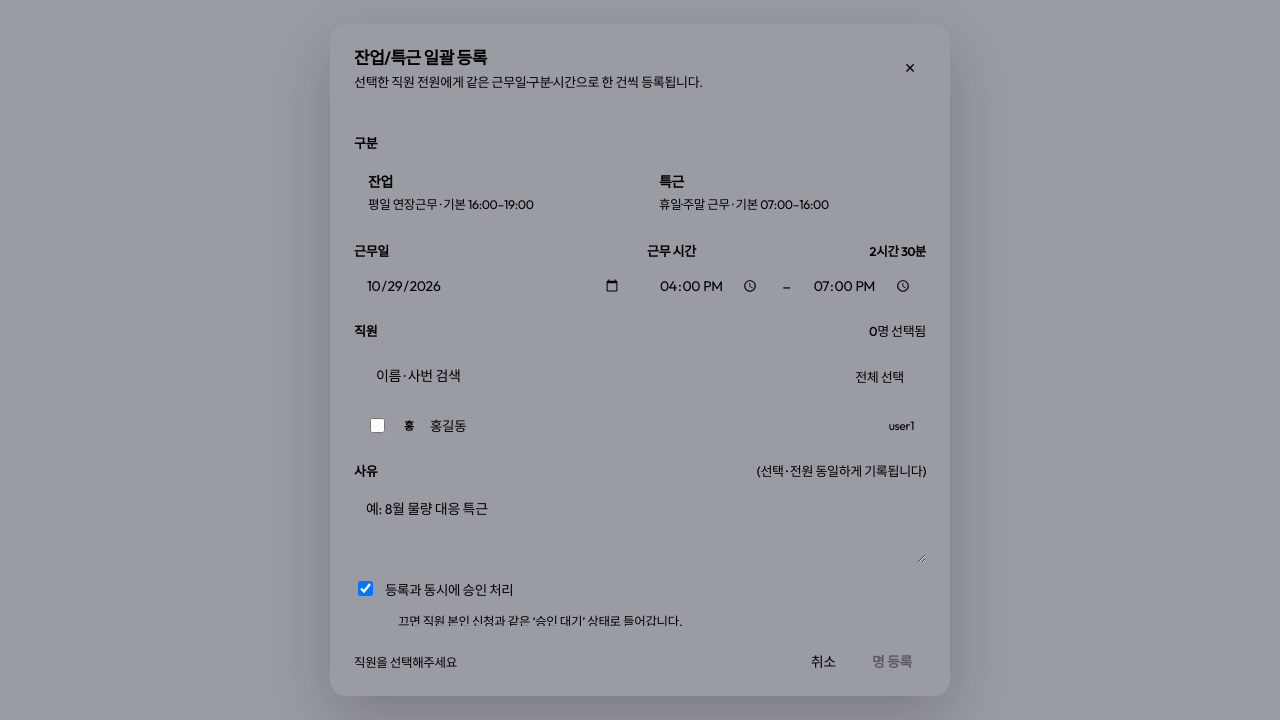
Test case: 잔업특근 일괄 등록 › 휴게시간 차감 후 0분인 시간은 등록하지 않는다
Expected: the text "홍길동" is shown, 430,415 -> 466,435
Click the checkbox labelled "홍 홍길동 user1": point(378, 425) 370,418 -> 385,432
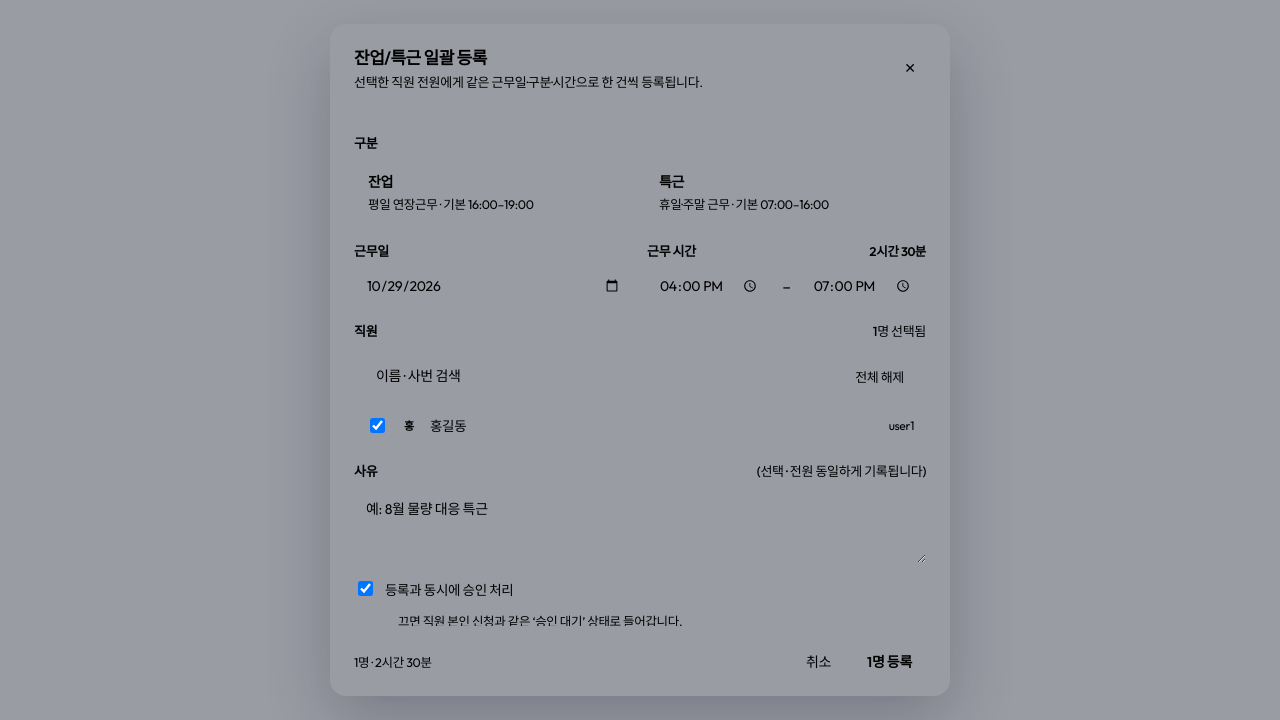
Replace the text in the time field named "시작 시간" with "17:00": point(710, 286) 647,267 -> 772,305
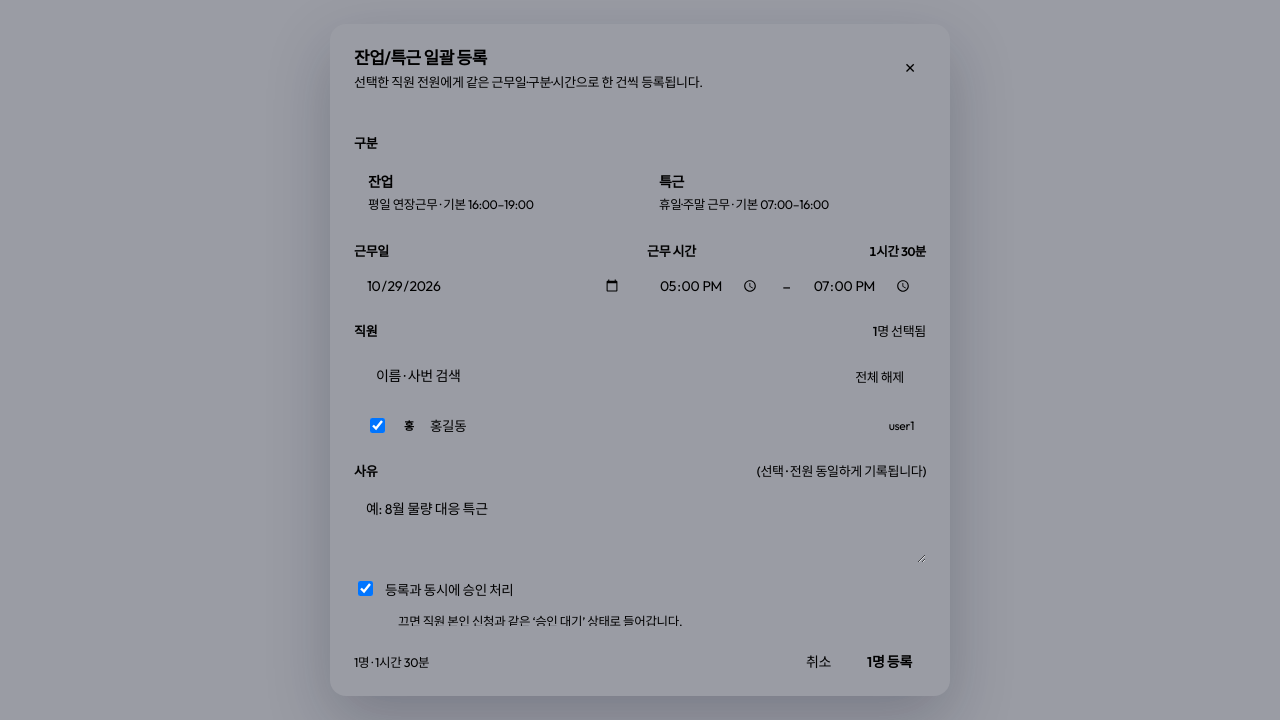
Replace the text in the time field named "종료 시간" with "17:30": point(863, 286) 801,267 -> 926,305
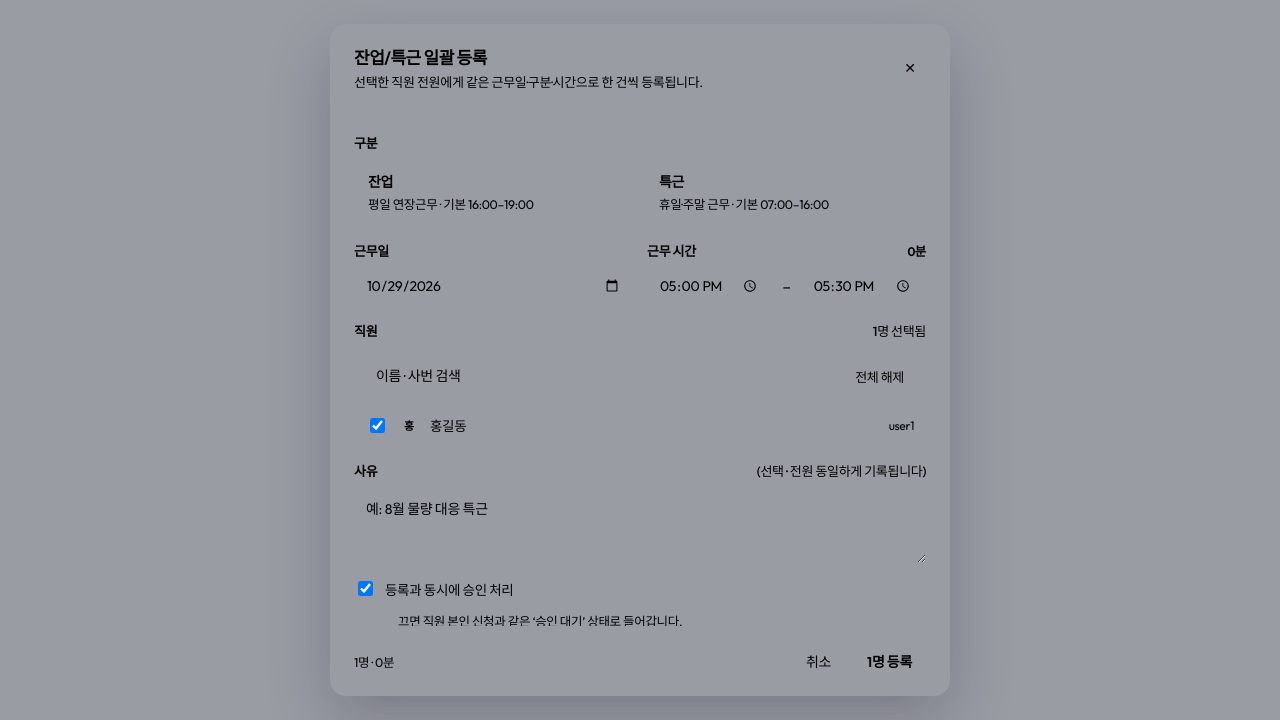
Click the button "1명 등록": point(890, 661) 853,642 -> 926,680
(page scrolled)
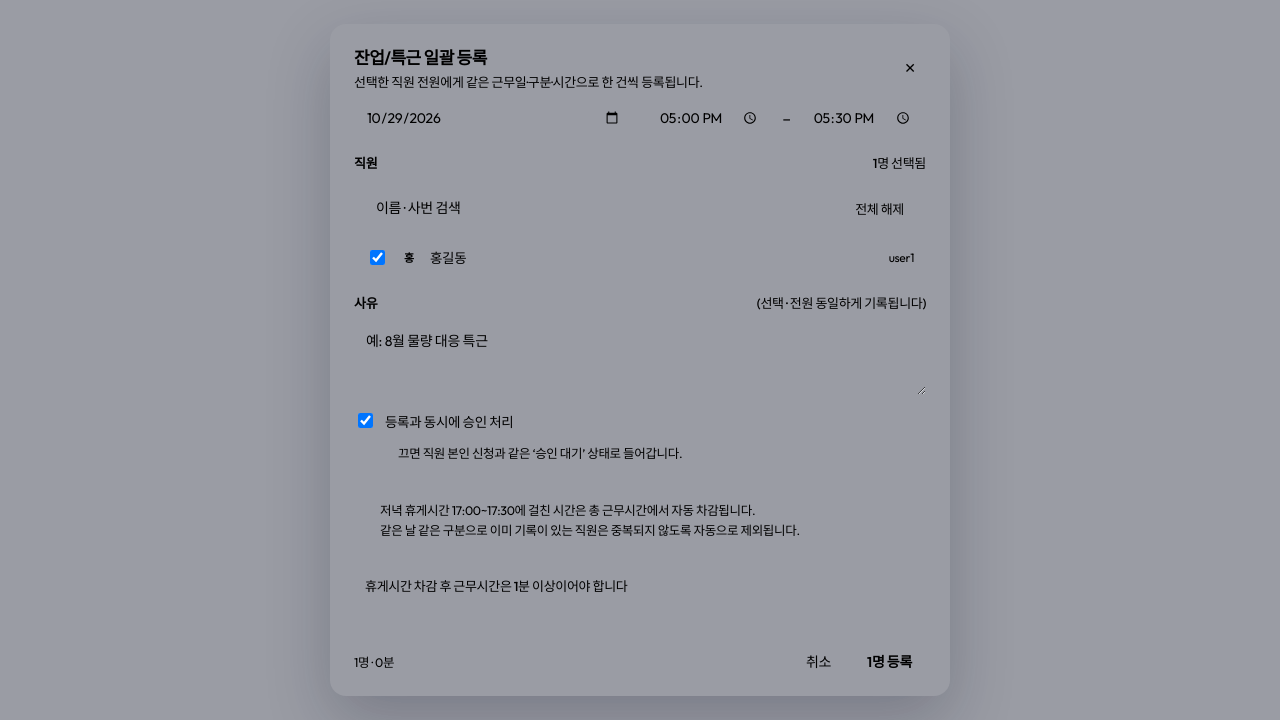
Expected: the text "휴게시간 차감 후 근무시간은 1분 이상이어야 합니다" is shown, 365,578 -> 627,594
